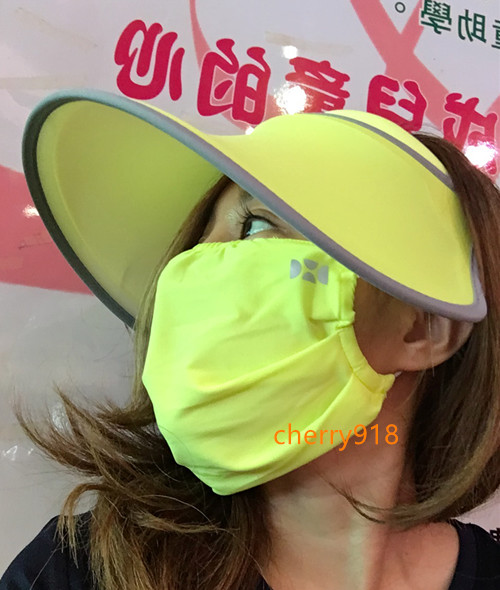face_mask: (153, 182, 363, 467)
